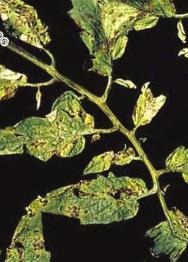Tomato Septoria leaf spot: (0, 60, 110, 201), (29, 137, 151, 259), (34, 0, 148, 88), (92, 200, 187, 262), (116, 77, 175, 136), (80, 132, 135, 187), (0, 44, 31, 138), (165, 121, 188, 208)
